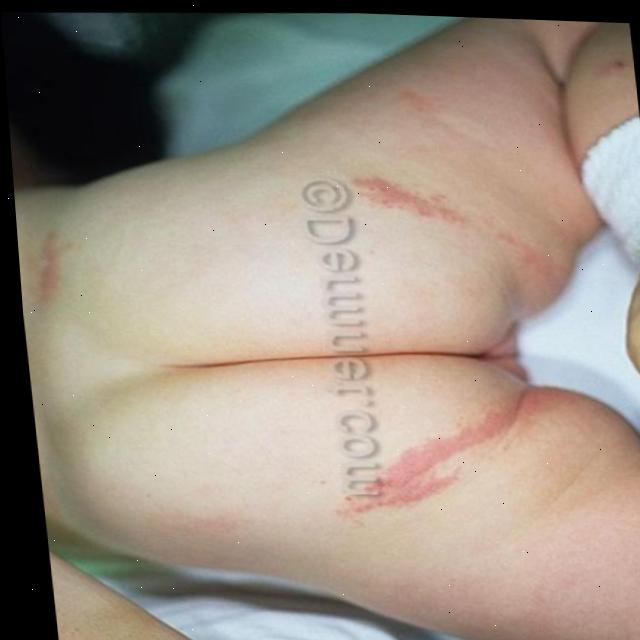Eczema: (351, 153, 442, 243), (375, 409, 450, 498), (28, 219, 89, 293)
